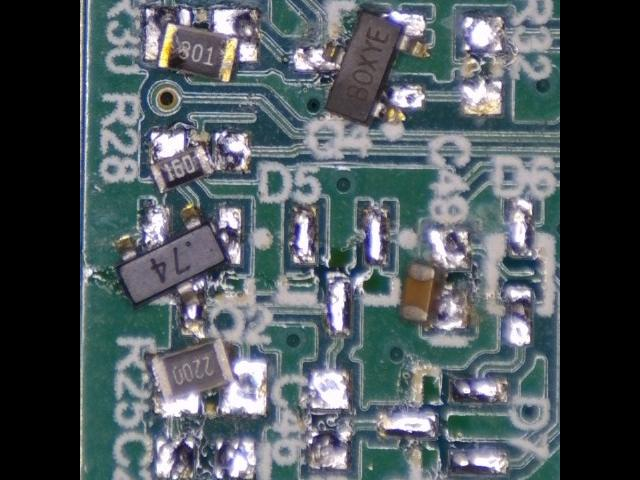Incorrect_installation: (113, 204, 243, 337), (295, 9, 430, 127), (150, 337, 269, 418), (144, 5, 262, 83), (400, 228, 472, 331), (150, 128, 252, 195)
